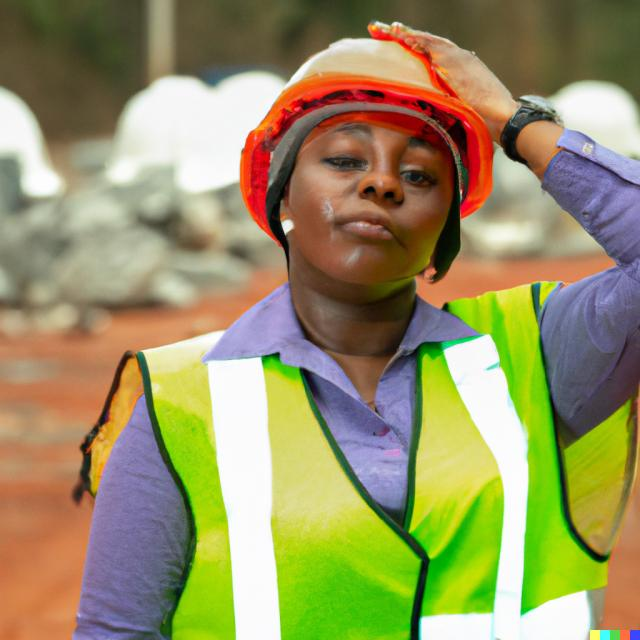Reflective-Jacket: (121, 294, 621, 636), (461, 266, 638, 600)
Safety-Helmet: (236, 24, 500, 212)
